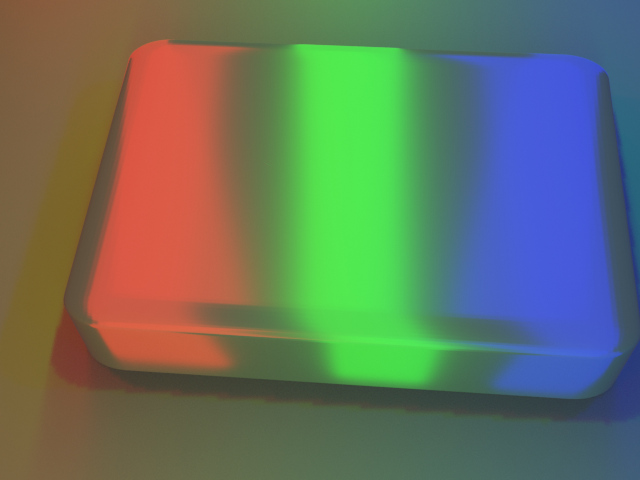scratch: (220, 132, 299, 175)
